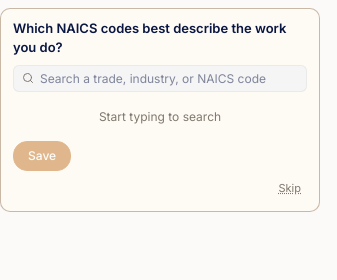
Test: the NAICS ask is a typeahead over the existing search endpoint › keeps a picked code visible after the search that surfaced it is cleared
Type "roof" into the field labelled "Search a trade, industry, or NAICS code" at (169, 78), box [40,70,298,87]
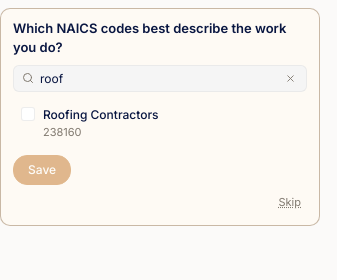
Click the option "Roofing Contractors 238160" at (160, 124), box [13,100,307,147]
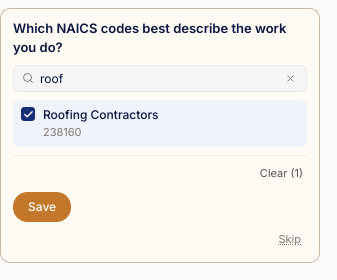
Clear the field named "Search a trade" at (158, 78), box [40,70,277,87]
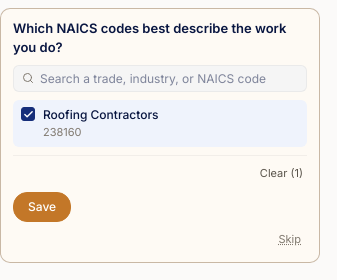
Check: the option "Roofing Contractors 238160" is selected, box [13,100,307,147]
